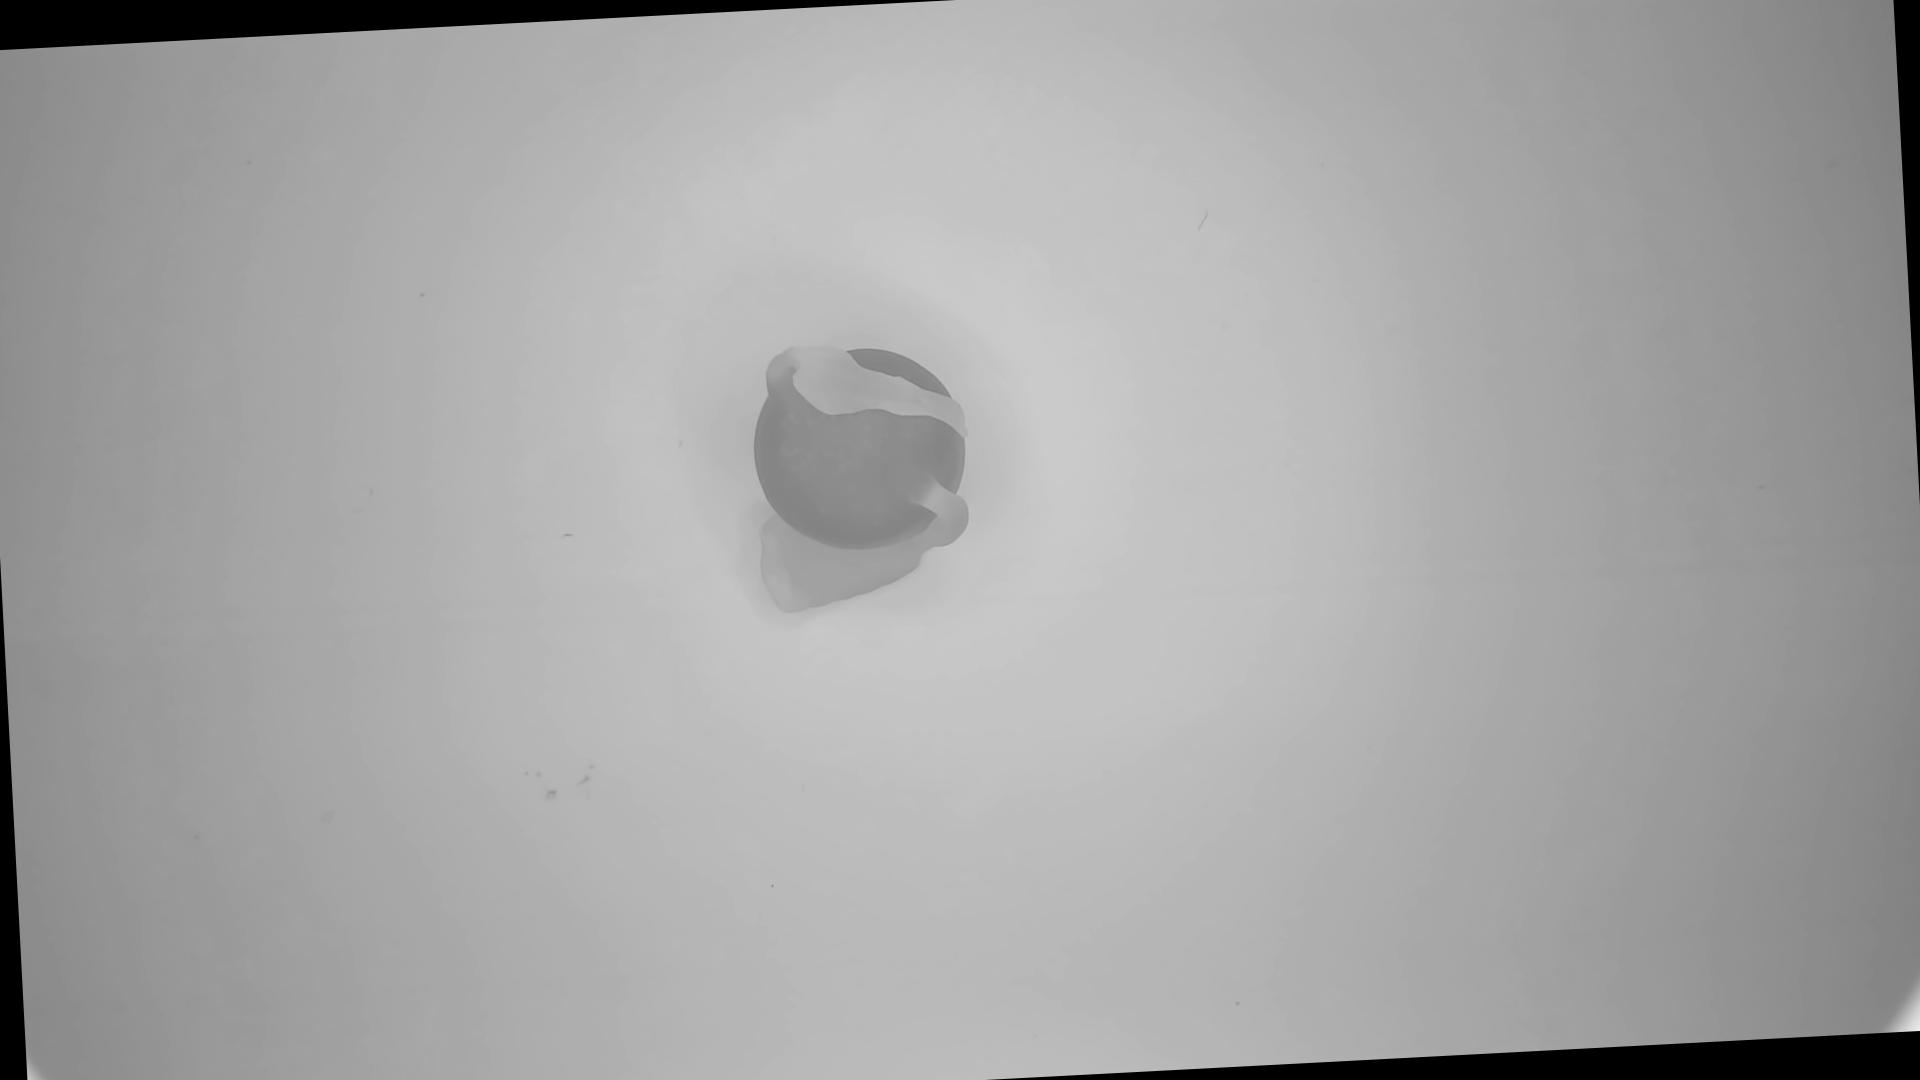abnormal: (744, 334, 981, 617)
